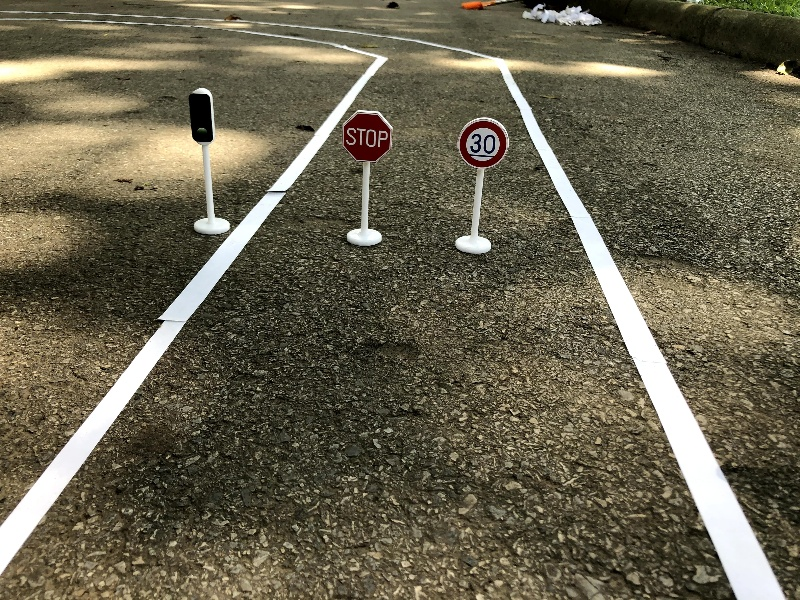Bien_bao_30: (445, 114, 514, 268)
Den_Xanh: (173, 85, 248, 242)
Stop: (323, 102, 410, 257)
